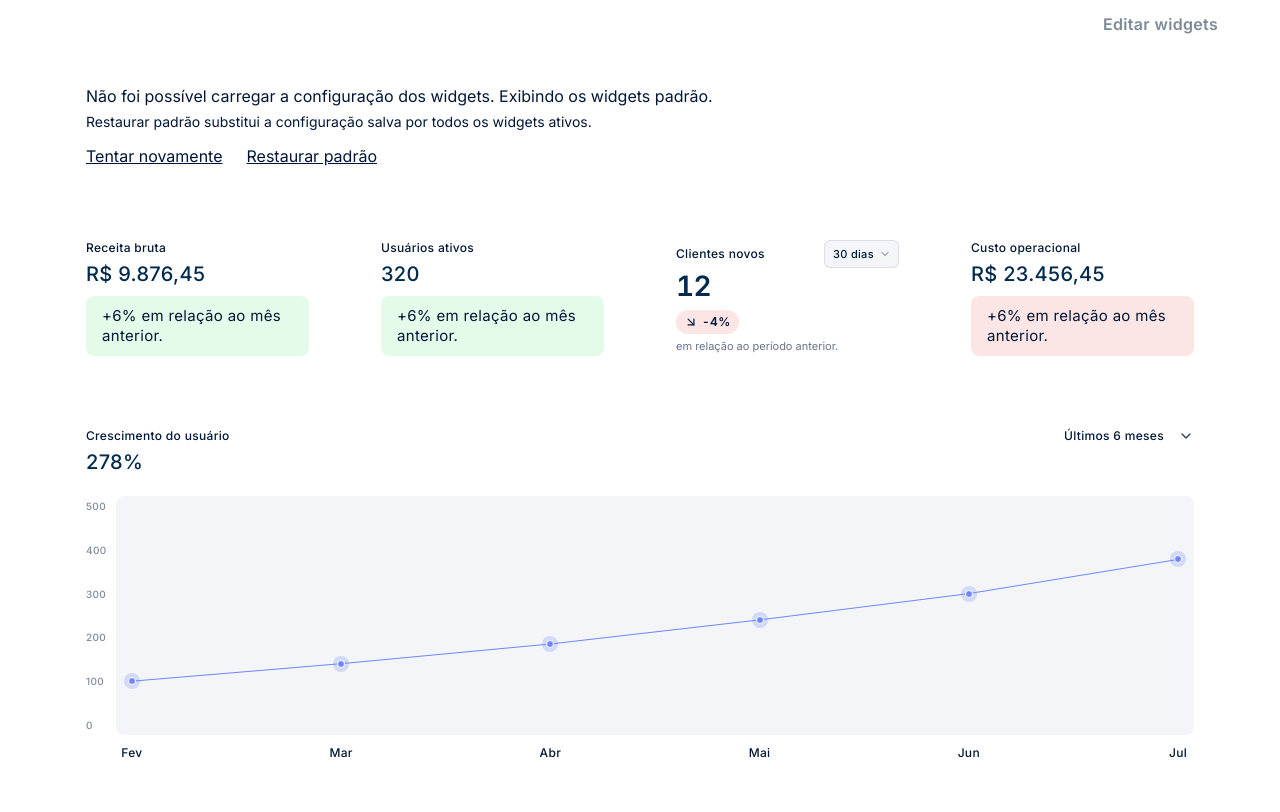
Configuracao de widgets no dashboard › com configuracao invalida, restaurar padrao grava o padrao e libera a edicao
The width and height of the screenshot is (1280, 812).
expect the message shows "Exibindo os widgets padrão": met, box [86,86,713,106]
expect the number of headings is 5: met, box [86,240,166,256]; [381,240,474,256]; [676,246,765,262]; [971,240,1081,256]; [86,428,230,444]
Click the button "Tentar novamente" at x=154, y=156, box [86,144,222,168]
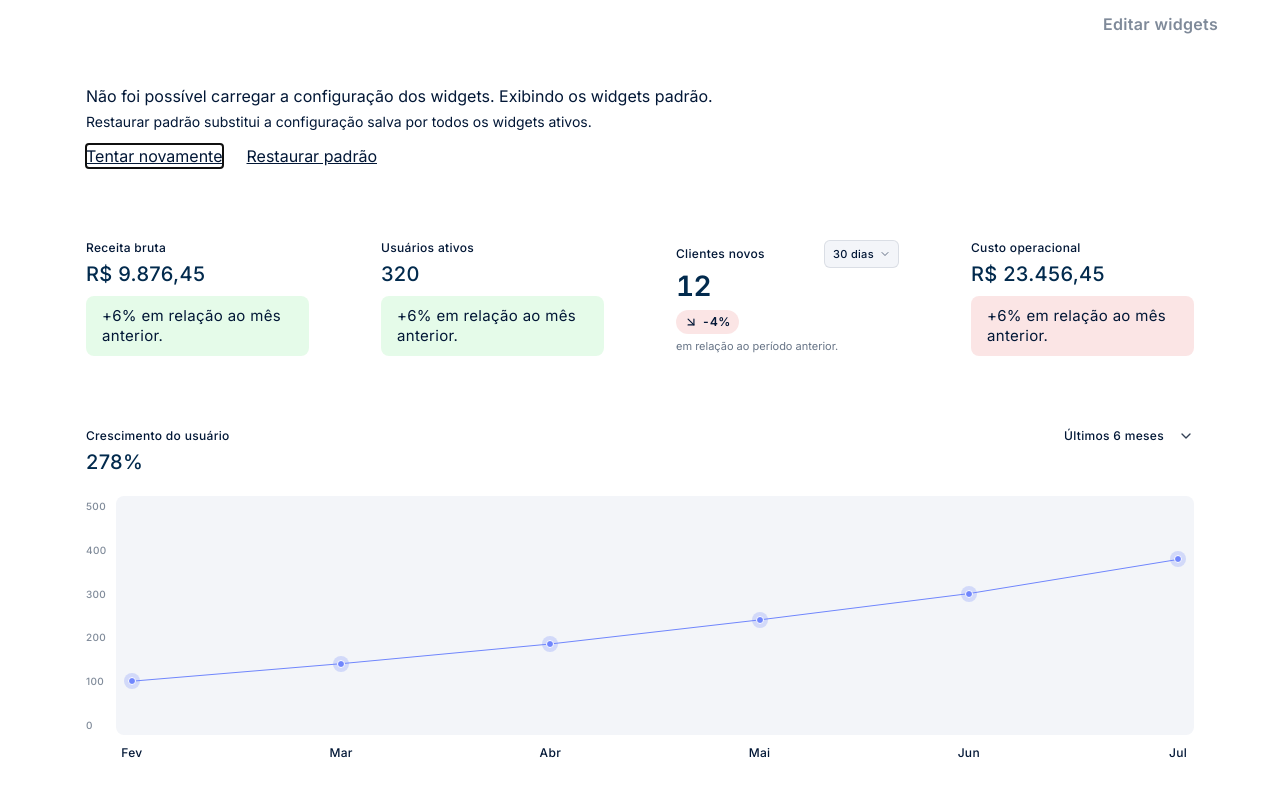
expect the message shows "Exibindo os widgets padrão": met, box [86,86,713,106]
Click the button "Restaurar padrão" at x=312, y=156, box [246,144,377,168]
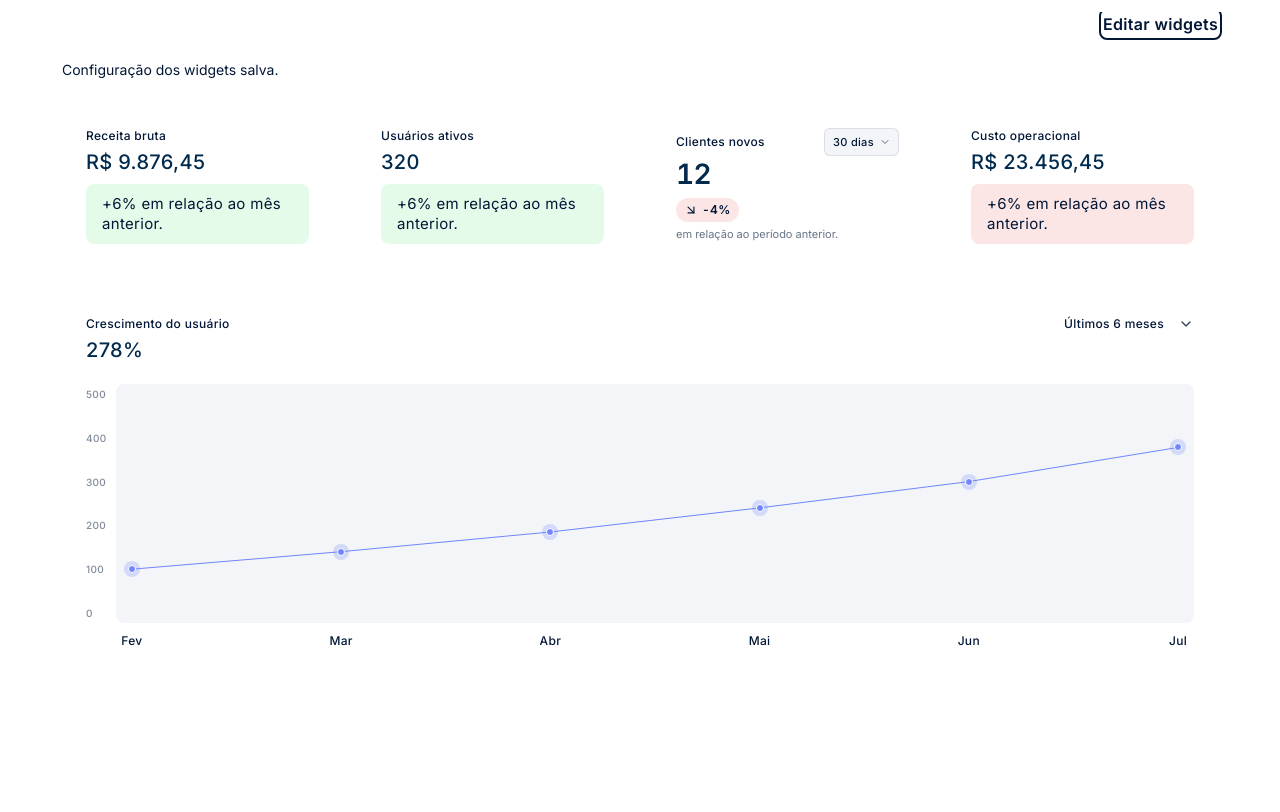
expect the message "Configuração dos widgets salva." is shown: met, box [62,61,278,78]
expect the button "Editar widgets" is enabled: met, box [1103,12,1218,36]
